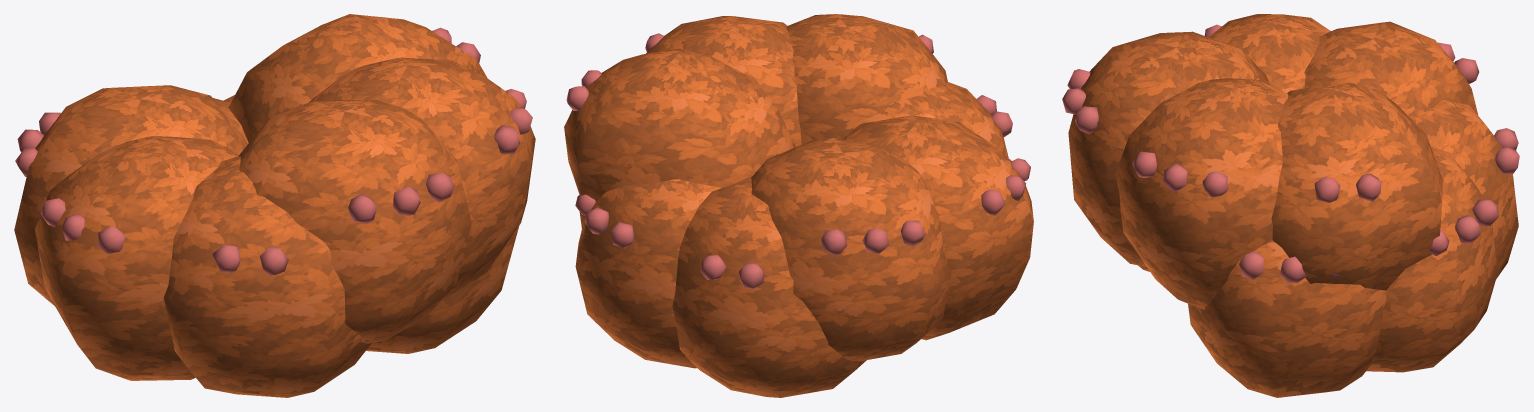
File: bush.glb
3 views of the same model, side by side, from view 1: azimuth 30°, elevation 25°; view 2: azimuth 150°, elevation 25°; view 3: azimuth 270°, elevation 25° (orthographic). The views are drawn at different scales.
Visible parts, largest first — view 1: bush; view 2: bush; view 3: bush.
Boxes of the visible parts, left/top/right/bottom form: bush: left=14, top=14, right=535, bottom=397; bush: left=564, top=14, right=1033, bottom=397; bush: left=1062, top=14, right=1519, bottom=397.
Size of the model in its own units: 1.47 by 0.9185 by 1.32.
Materials: 1 (1 with a texture image).
